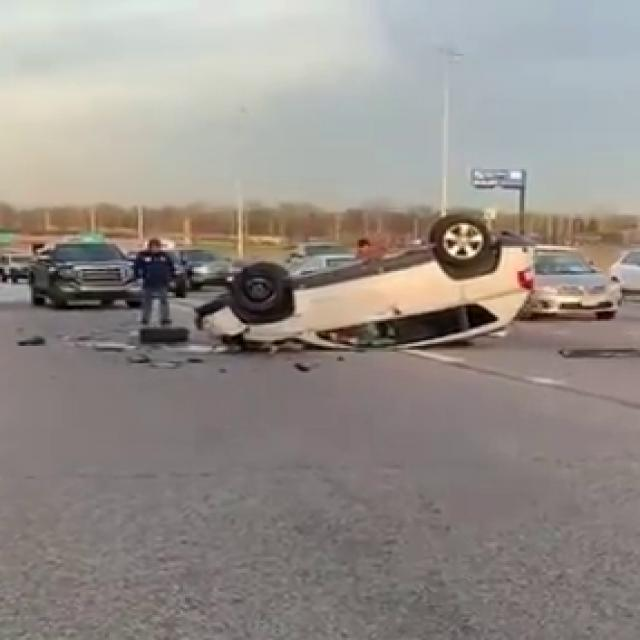accident: (203, 210, 531, 350)
